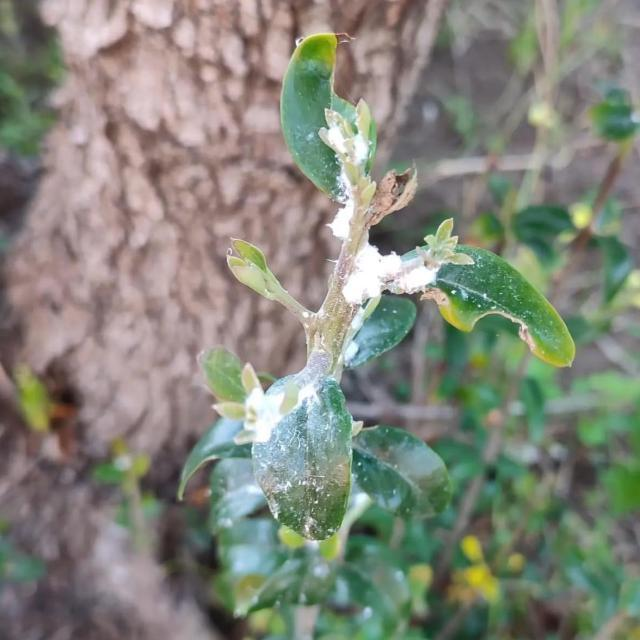Psyllid: (252, 378, 352, 540), (343, 218, 474, 306), (214, 350, 332, 444), (318, 94, 376, 204), (328, 206, 351, 240)
